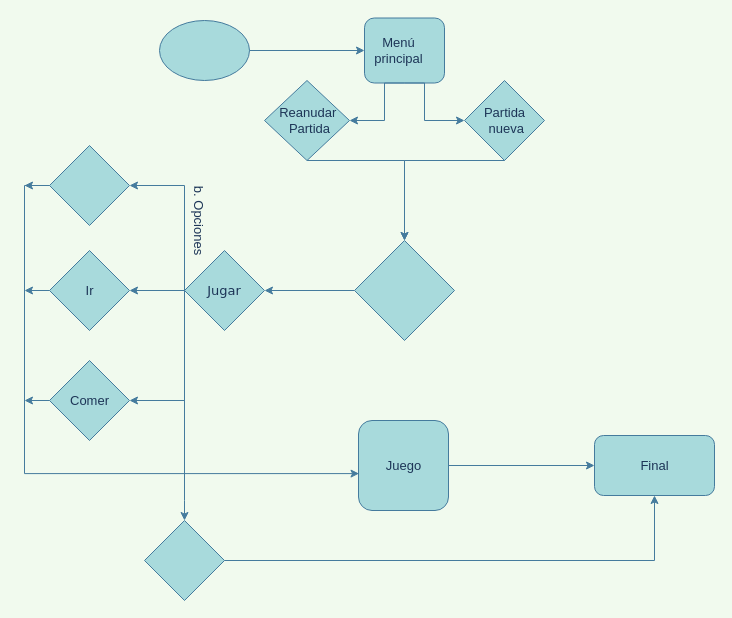
This 732x618 diagram has some shape labels left out. Each missing label, with the centre of its shape:
"Inicio" belongs at (204,50).
"Observar" belongs at (89,185).
"Salir" belongs at (184,560).
"¿Qué desea hacer?" belongs at (404,290).
